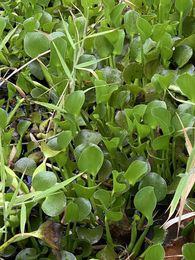water_hyacinth: (1, 2, 195, 259)
